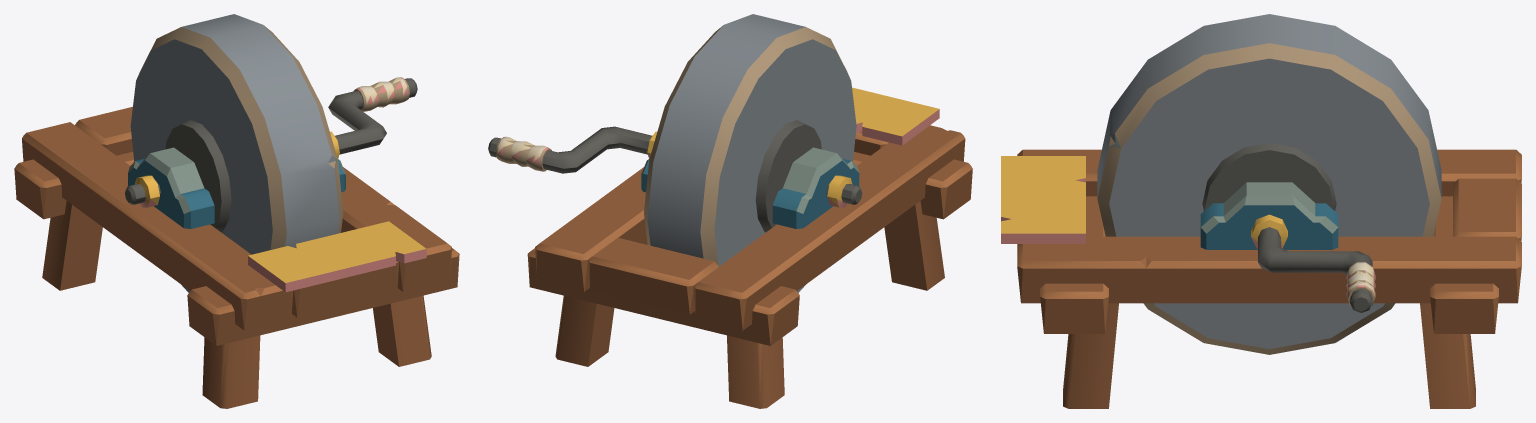
The model's file is itch_kaykit_rpg_tools_grindstone.glb.
The picture shows the model from 3 angles, left to right: view 1: azimuth 30°, elevation 25°; view 2: azimuth 150°, elevation 25°; view 3: azimuth 270°, elevation 25°; orthographic projection. The views are drawn at different scales.
Visible parts, largest first — view 1: grindstone, grindstone_wheel; view 2: grindstone, grindstone_wheel; view 3: grindstone_wheel, grindstone.
Part boxes in pixels (x1,y1,x2,y2): grindstone: (14,106,459,408); grindstone_wheel: (125,14,417,292); grindstone: (527,87,972,408); grindstone_wheel: (488,14,862,292); grindstone_wheel: (1097,14,1441,354); grindstone: (1001,149,1521,408).
Bounding box in the file's own units: 1.01 × 0.8057 × 1.18.
